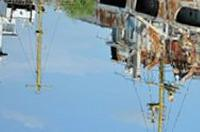rust: (148, 27, 200, 70), (95, 7, 119, 26), (108, 45, 124, 63)
